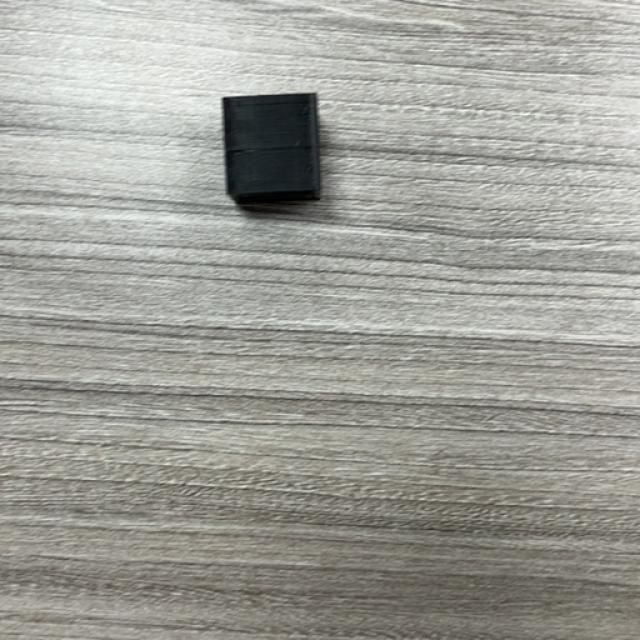Negro: (222, 92, 321, 206)
